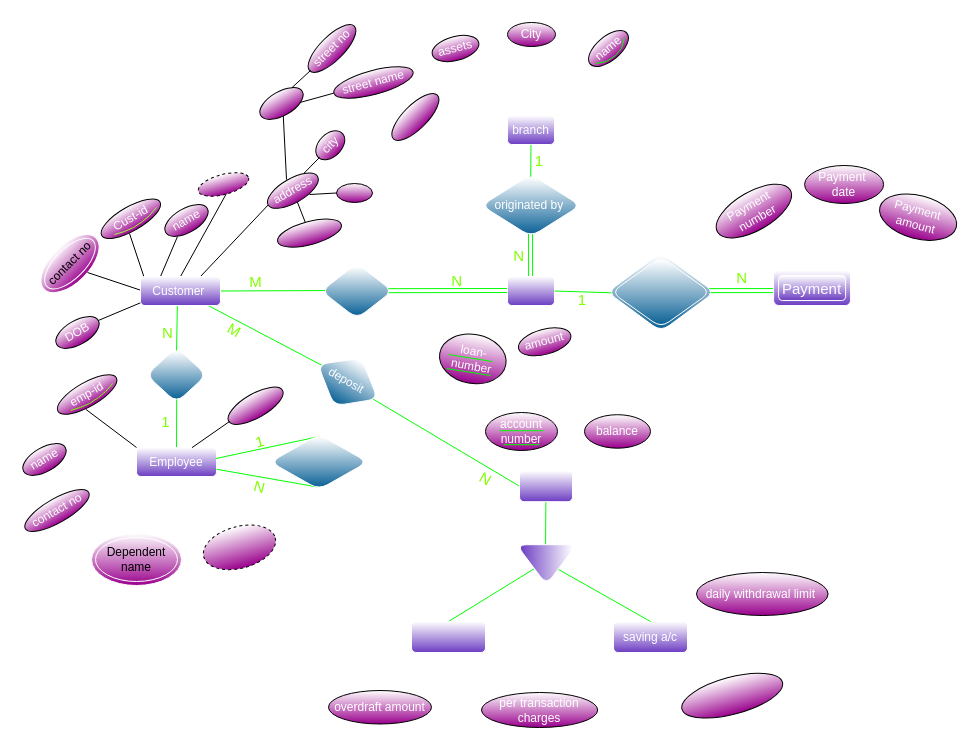
Image size: 980x745. Some labels were removed from this diagram. The box of each missing label's shape, as (x1, y1, x2, y2) in pixels:
account: (518, 470, 572, 502)
age: (195, 167, 251, 201)
banker: (146, 346, 206, 402)
borrow: (320, 262, 392, 318)
current a/c: (410, 620, 486, 652)
interest rate: (676, 663, 787, 727)
is-a: (516, 544, 576, 585)
liabilities: (384, 85, 446, 148)
Loan: (506, 276, 554, 306)
Loan payment: (606, 252, 714, 332)
managed by: (270, 434, 368, 490)
pin code: (274, 212, 344, 253)
start date: (222, 379, 289, 432)
state: (336, 182, 372, 202)
street: (254, 80, 308, 126)
Years of Service: (197, 516, 281, 577)
